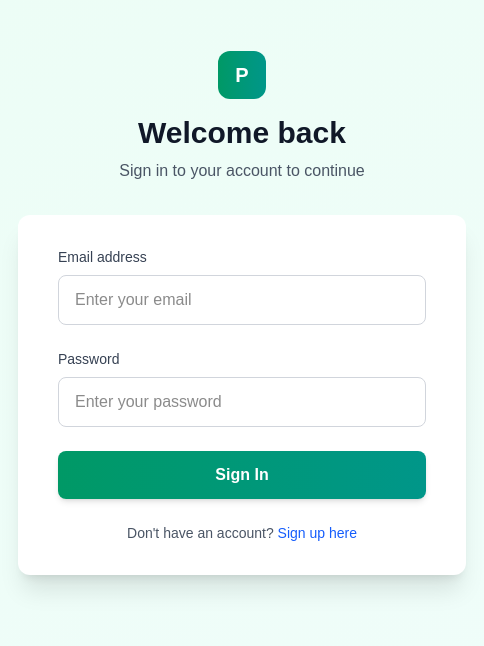
it: Login Component › should handle login errors correctly
This screenshot has width=484, height=646.
Note: Fill and submit the form
Step 1. Type "wrong@example.com" into the field labelled "Email address" → (242, 300), box [58,275,426,325]
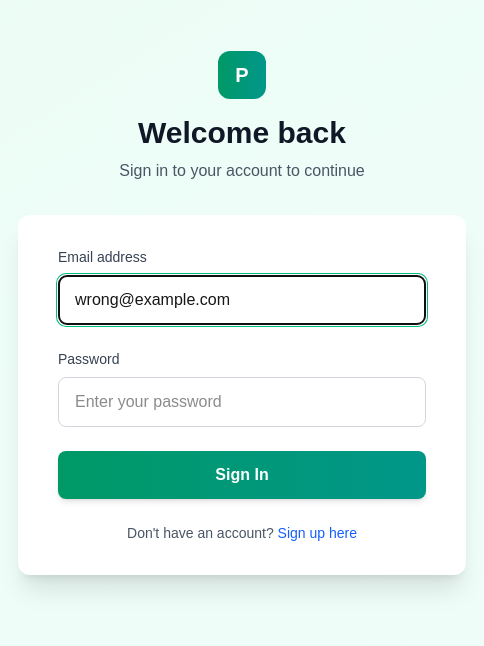
Step 2. Type "wrongpassword" into the password field labelled "Password" → (242, 402), box [58,377,426,427]
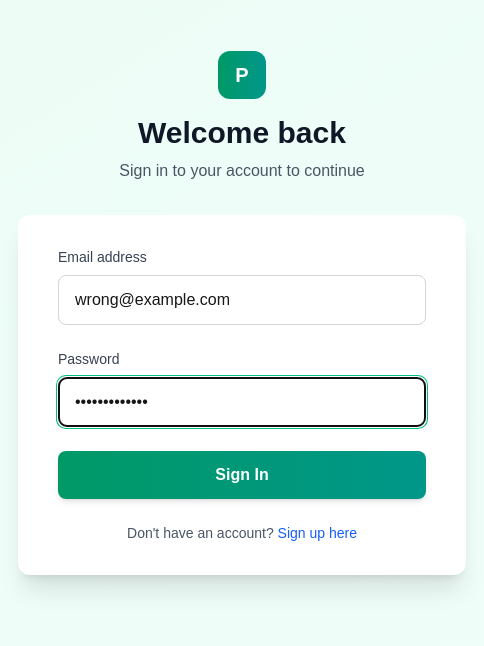
Step 3. Click the button "Sign In" → (242, 475), box [58,451,426,499]
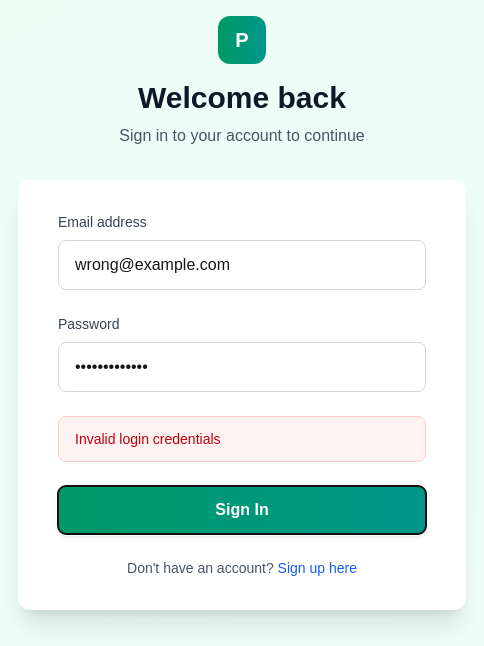
Expected: the text "Invalid login credentials" is shown, [58,416,426,462]
